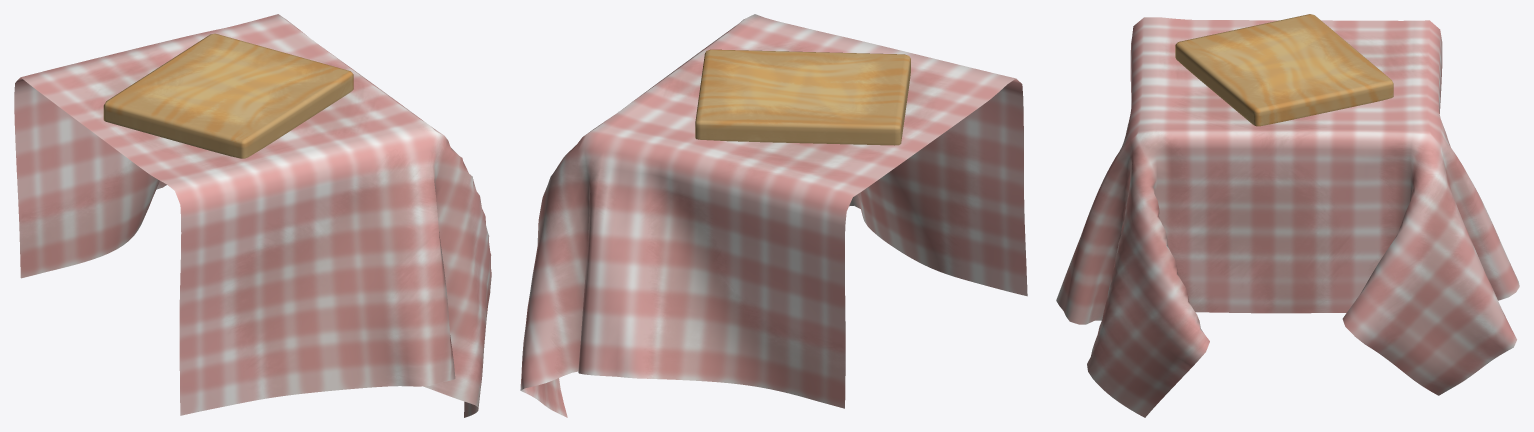
Rendered from EndTable.fbx.
The picture shows the model from 3 angles, left to right: view 1: azimuth 30°, elevation 25°; view 2: azimuth 150°, elevation 25°; view 3: azimuth 270°, elevation 25°; orthographic projection. The views are drawn at different scales.
Visible parts, largest first — view 1: pCube6; view 2: pCube6; view 3: pCube6.
Part boxes in pixels (<box>): pCube6: <box>14,14,491,417</box>; pCube6: <box>520,14,1027,417</box>; pCube6: <box>1056,14,1519,417</box>.
Bounding box in the file's own units: 30.53 × 26.63 × 39.11.
2 materials, 2 textured.
